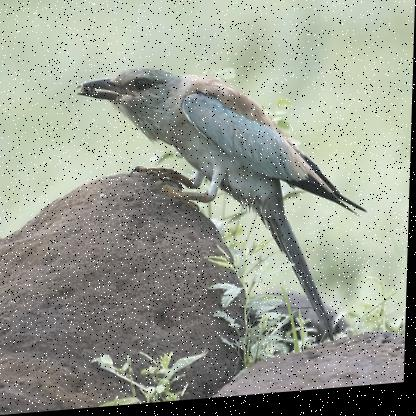Burung: (68, 54, 368, 365)
